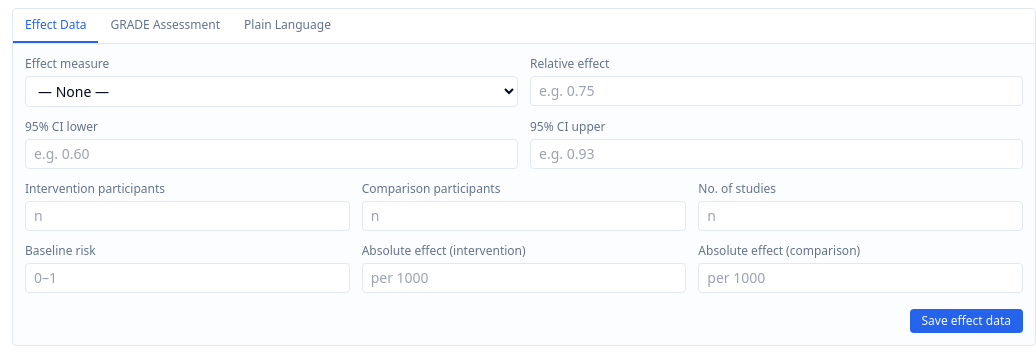
it: GradeAssessmentPanel › shows existing plain language summary
Click the button "Plain Language" at (288, 26), box x1=232 y1=9 x2=343 y2=43
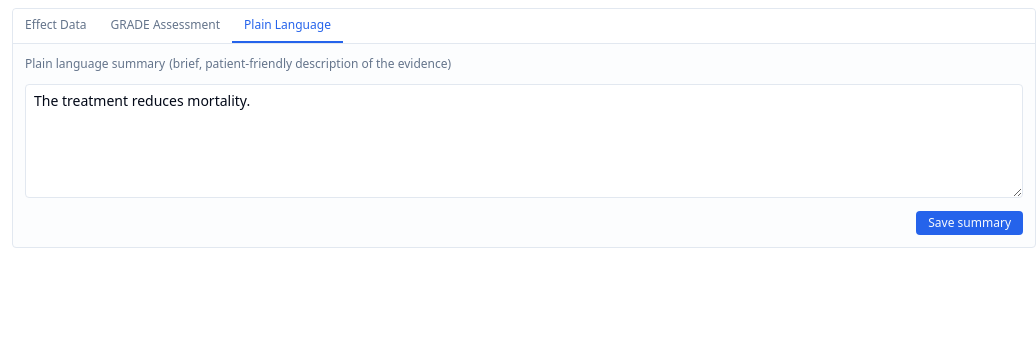
Expected: the text box named "Plain language summary" holds "The treatment reduces mortality.", x1=25 y1=84 x2=1023 y2=198
